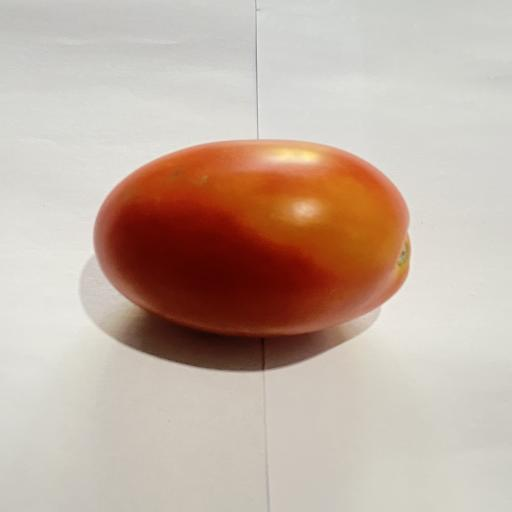ripe: (94, 139, 410, 337)
